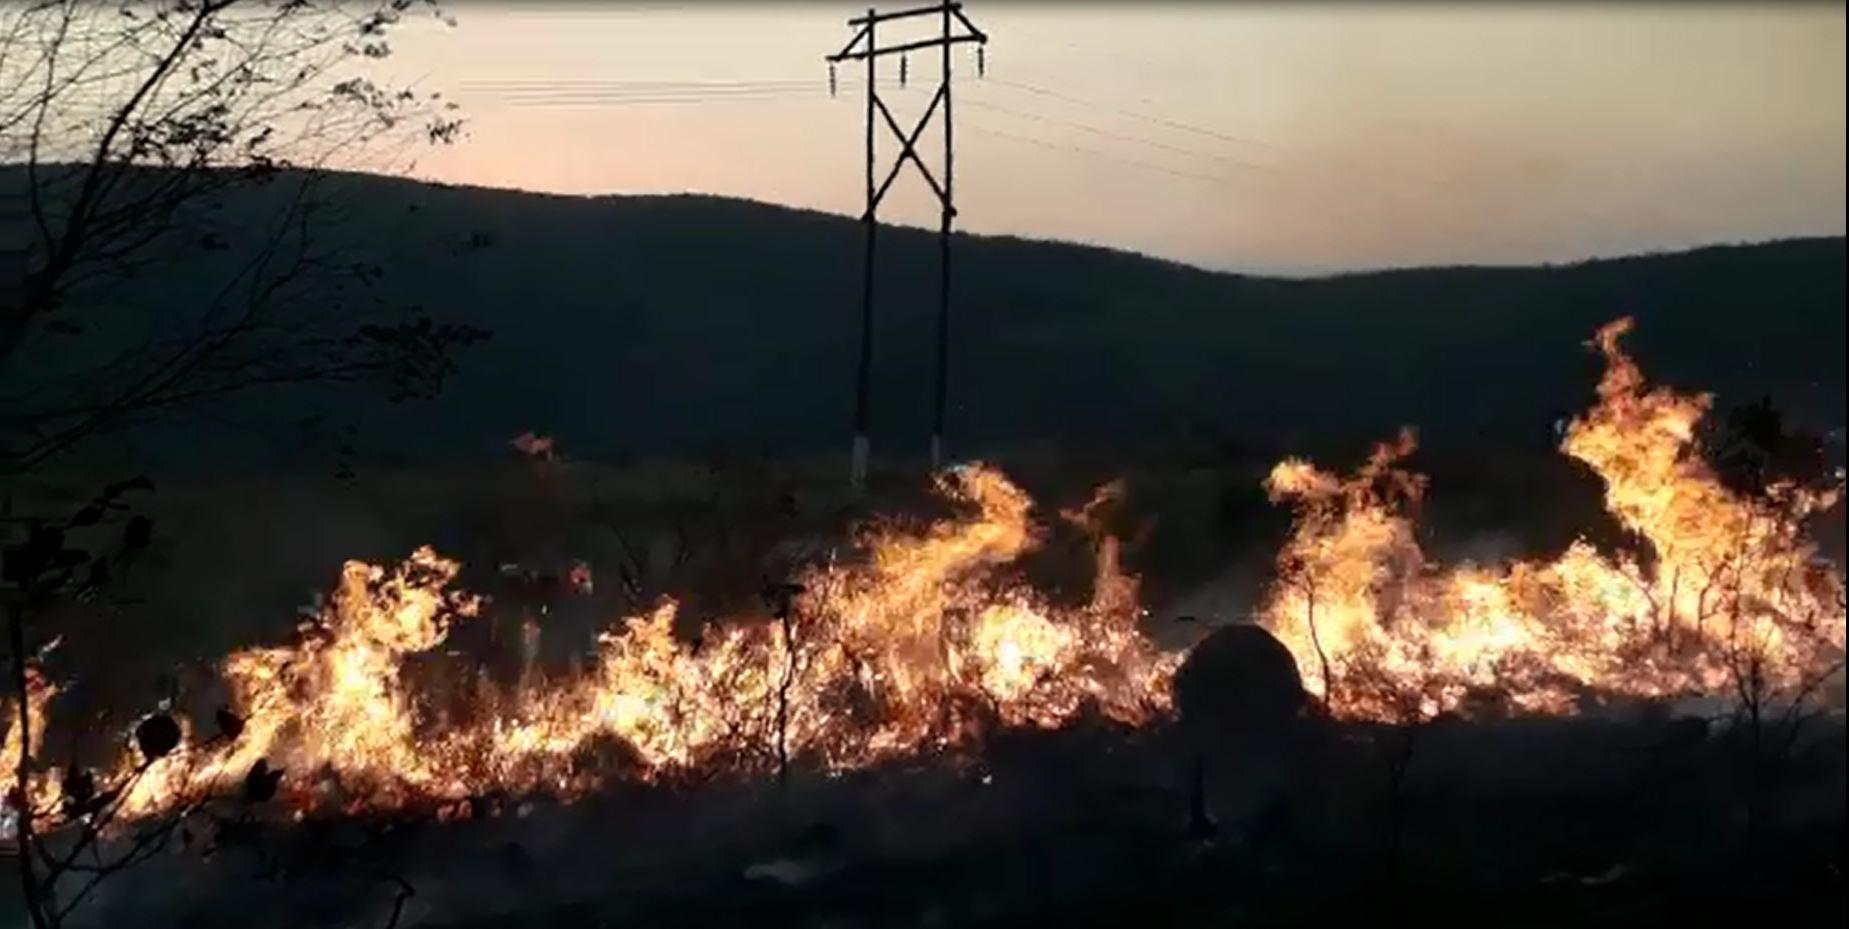Fire: (6, 473, 1150, 829), (1263, 313, 1842, 728)
